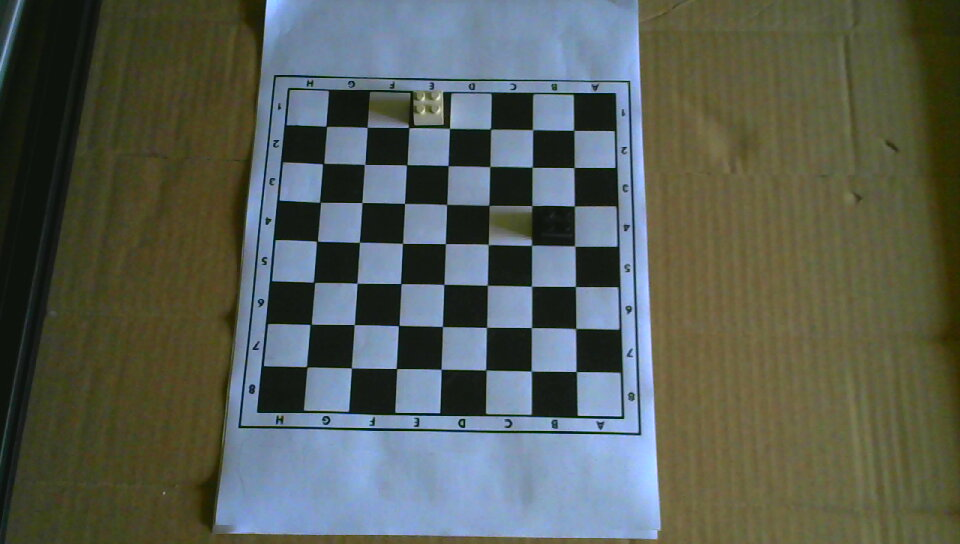bp: (538, 207, 575, 243)
wp: (411, 87, 445, 126)
